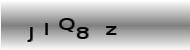8: (74, 26, 89, 39)
J: (26, 25, 34, 42)
Q: (57, 17, 75, 32)
l: (43, 22, 48, 35)
z: (104, 24, 117, 36)
